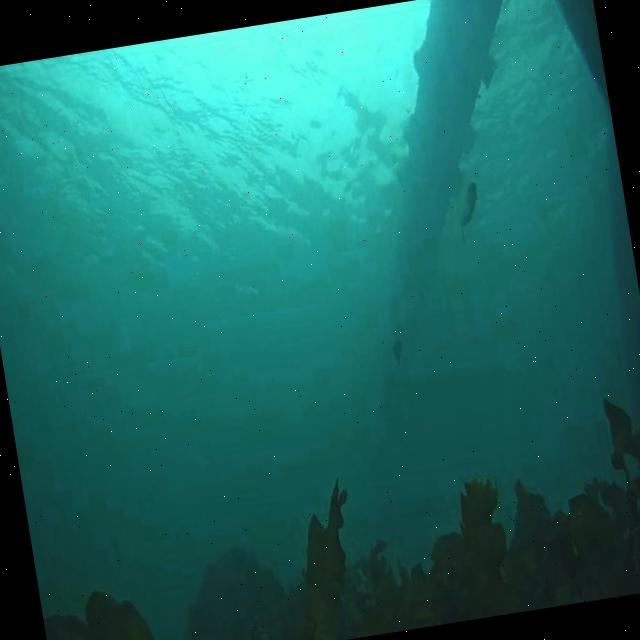fish: (452, 181, 486, 242), (391, 336, 408, 368)
